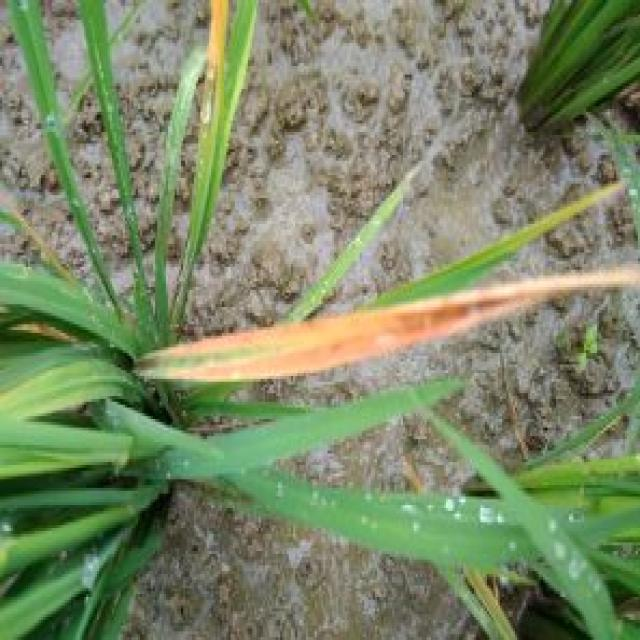Tungro: (154, 262, 640, 394), (181, 0, 228, 187)
